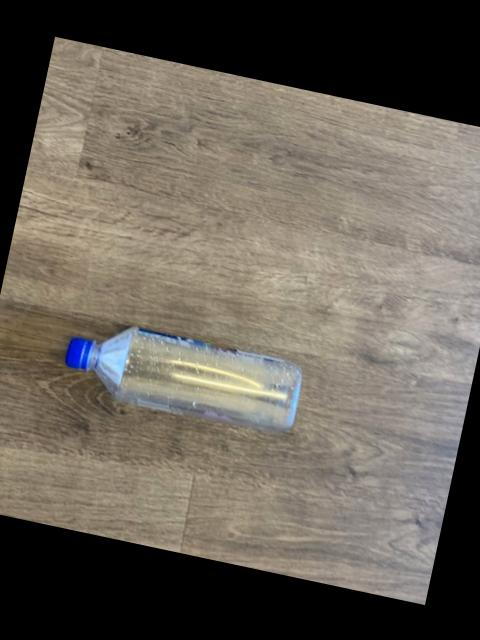plastic: (68, 328, 303, 431)
